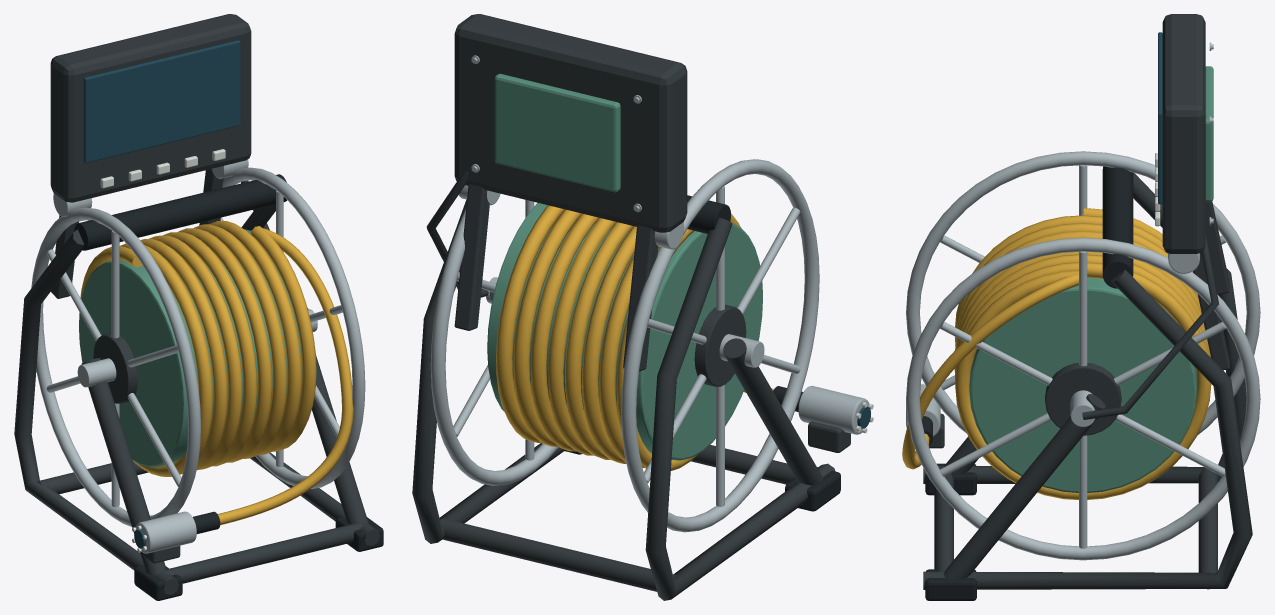
The model's file is city-pipe-inspection-camera-reel.glb.
3 views of the same model, side by side, from view 1: azimuth 30°, elevation 25°; view 2: azimuth 150°, elevation 25°; view 3: azimuth 270°, elevation 25° (orthographic). The views are drawn at different scales.
Parts seen in each view (by area): view 1: Assembly | Dark powder coated structure, Assembly | Warm safety yellow polymer, Assembly | Satin metal fittings, Assembly | Opaque blue optical and display face, Assembly | Muted instrument green, Assembly | Matte dark grip rubber, Assembly | Ivory casing and scale marks; view 2: Assembly | Dark powder coated structure, Assembly | Warm safety yellow polymer, Assembly | Muted instrument green, Assembly | Satin metal fittings, Assembly | Matte dark grip rubber; view 3: Assembly | Dark powder coated structure, Assembly | Satin metal fittings, Assembly | Muted instrument green, Assembly | Warm safety yellow polymer, Assembly | Matte dark grip rubber, Assembly | Opaque blue optical and display face.
Boxes of the visible parts, <box> form: Assembly | Dark powder coated structure: <box>14,14,380,594</box>; Assembly | Warm safety yellow polymer: <box>79,221,353,524</box>; Assembly | Satin metal fittings: <box>31,159,365,553</box>; Assembly | Opaque blue optical and display face: <box>83,40,240,548</box>; Assembly | Muted instrument green: <box>79,229,316,467</box>; Assembly | Matte dark grip rubber: <box>74,174,383,600</box>; Assembly | Ivory casing and scale marks: <box>100,149,225,552</box>; Assembly | Dark powder coated structure: <box>412,14,850,600</box>; Assembly | Warm safety yellow polymer: <box>496,205,773,470</box>; Assembly | Muted instrument green: <box>487,73,762,460</box>; Assembly | Satin metal fittings: <box>430,55,869,532</box>; Assembly | Matte dark grip rubber: <box>565,195,840,511</box>; Assembly | Dark powder coated structure: <box>923,14,1252,589</box>; Assembly | Satin metal fittings: <box>906,42,1260,560</box>; Assembly | Muted instrument green: <box>969,66,1213,492</box>; Assembly | Warm safety yellow polymer: <box>902,208,1211,499</box>; Assembly | Matte dark grip rubber: <box>922,166,1133,600</box>; Assembly | Opaque blue optical and display face: <box>1158,32,1162,204</box>.
Size of the model in its own units: 0.455 by 0.766 by 0.5151.
